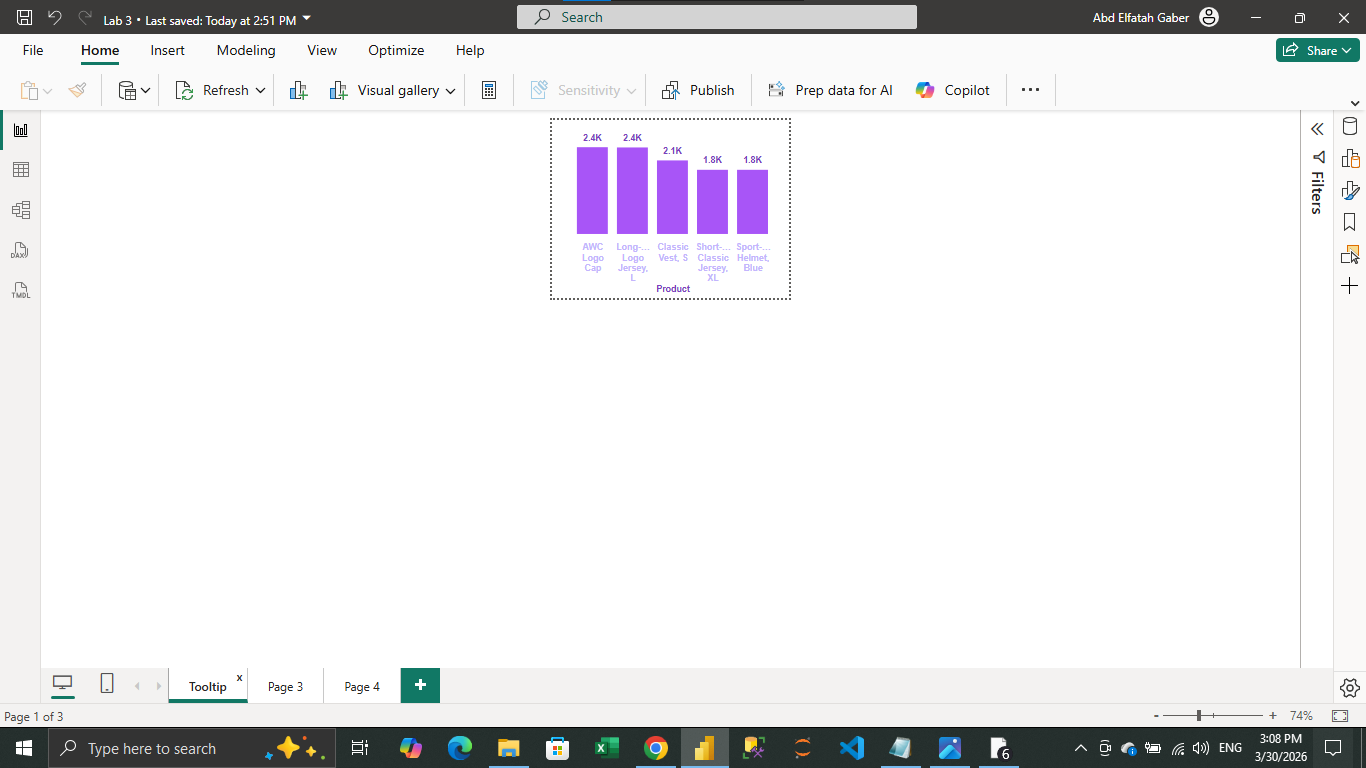

This screenshot's page, from the dashboard's own definition file:
{"tool":"powerbi","page":{"name":"Tooltip","canvas":[320,240],"ordinal":0},"visuals":[{"type":"columnChart","fields":{"Category":["Dim Products.Product"],"Y":["#KPIs.Total Quantity"]},"box":[0,0,320,240],"z":0}]}

Visuals, with their boxes on the page's 320x240 design canvas (x1, y1, x2, y2). These are canvas units, not pixel positions in the 1366x768 screenshot, which may show the page scaled, cropped or inside an application window:
columnChart - Dim Products.Product x #KPIs.Total Quantity: [0, 0, 320, 240]
